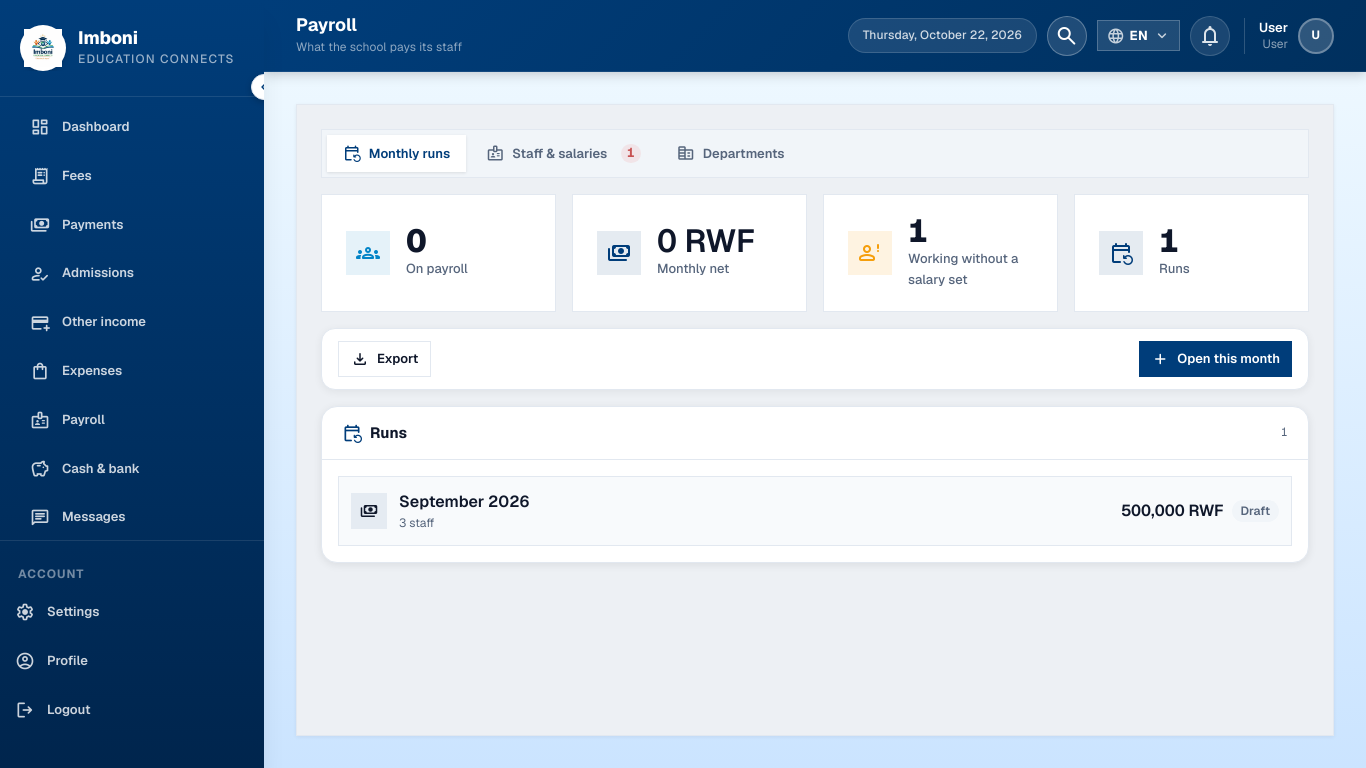
Test: FinancePayroll › shows what each department costs in a run
Click the text "September 2026" at (464, 501), box 399,491 -> 529,512
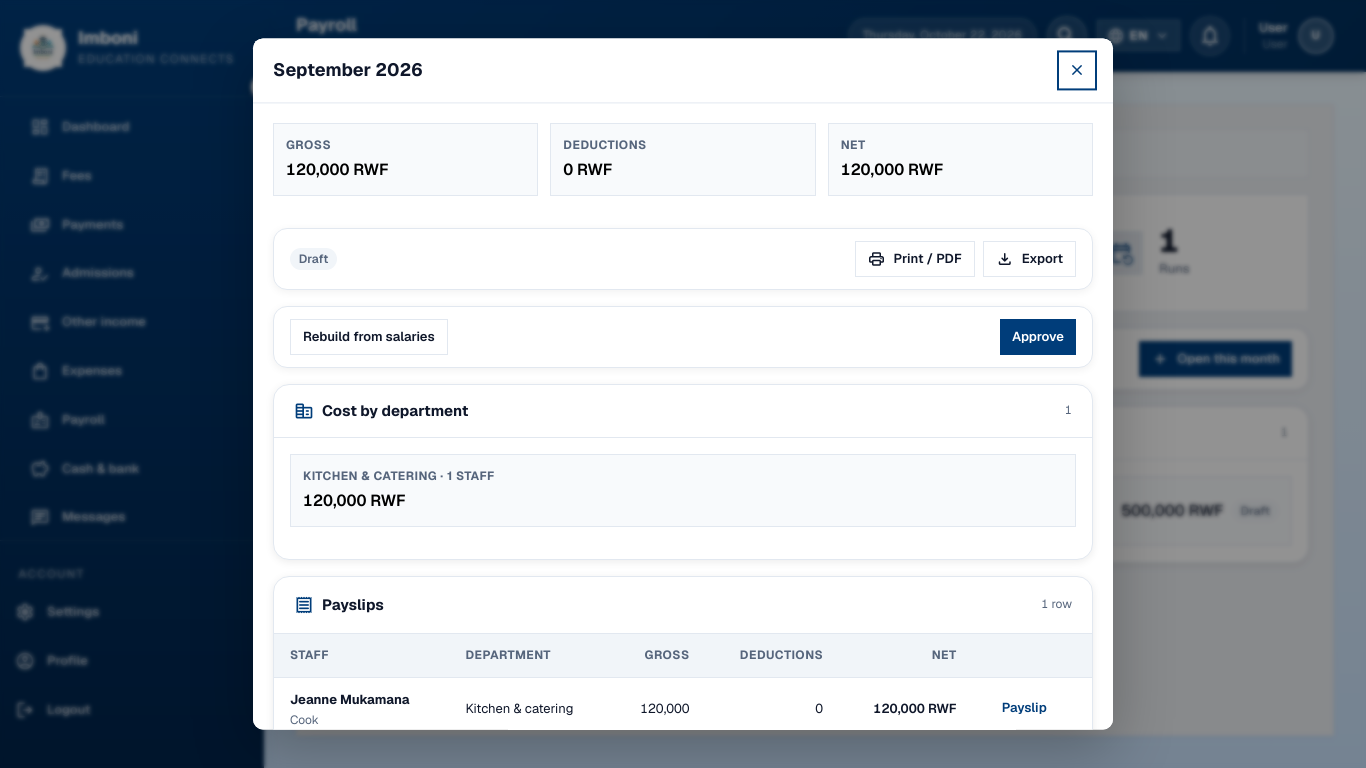
Expected: the heading "Cost by department" is shown, 294,401 -> 468,421
